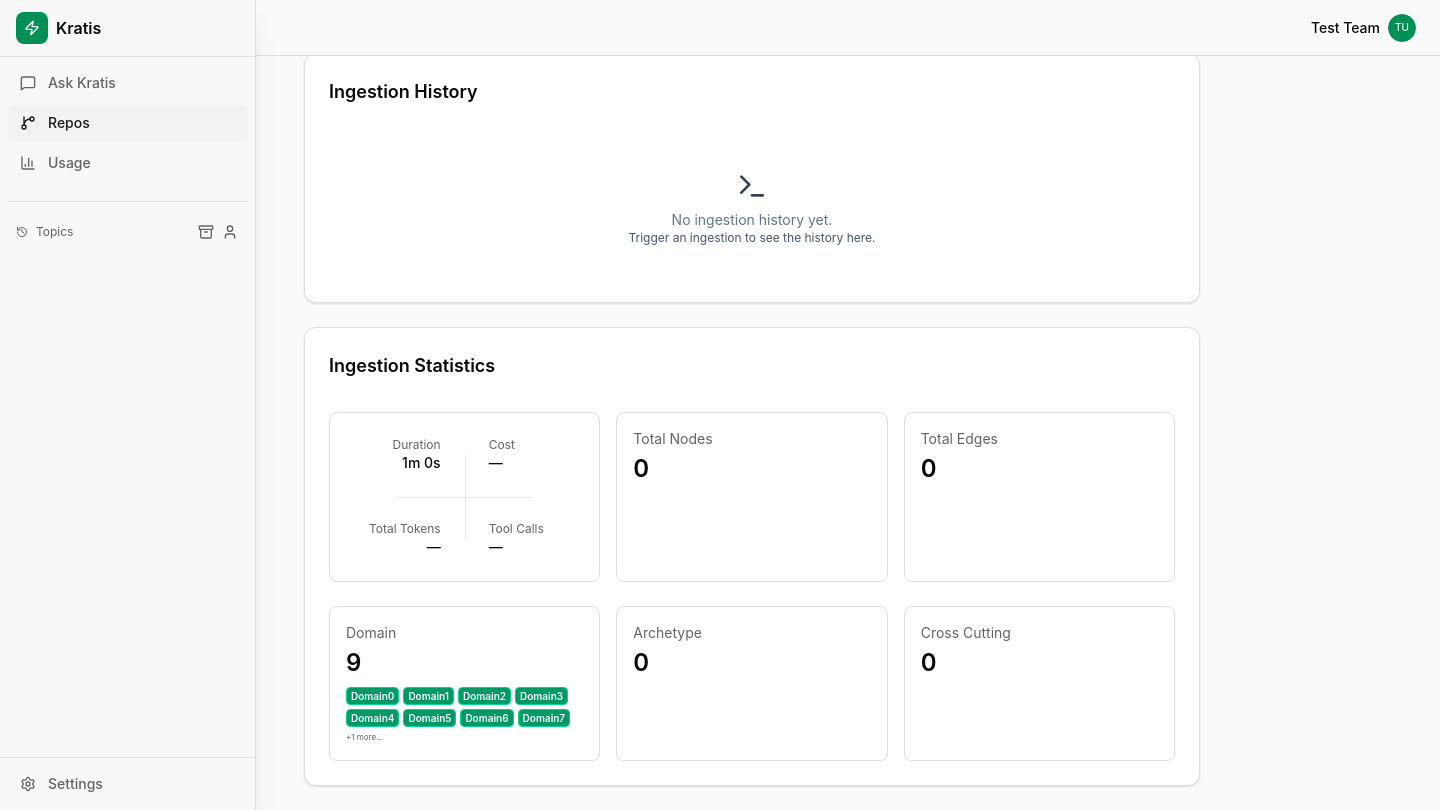
Test: Repository Drilldown - Dimension Categories & Wiki Pages › expands and collapses the dimension tag cloud when more than 8 dimensions exist in a category
(page scrolled)
Expected: the text "Domain0" is shown, [347,688,398,704]
Expected: the text "Domain8" is not shown
Click the button "+1 more…" at (365, 738), box [346,731,383,744]
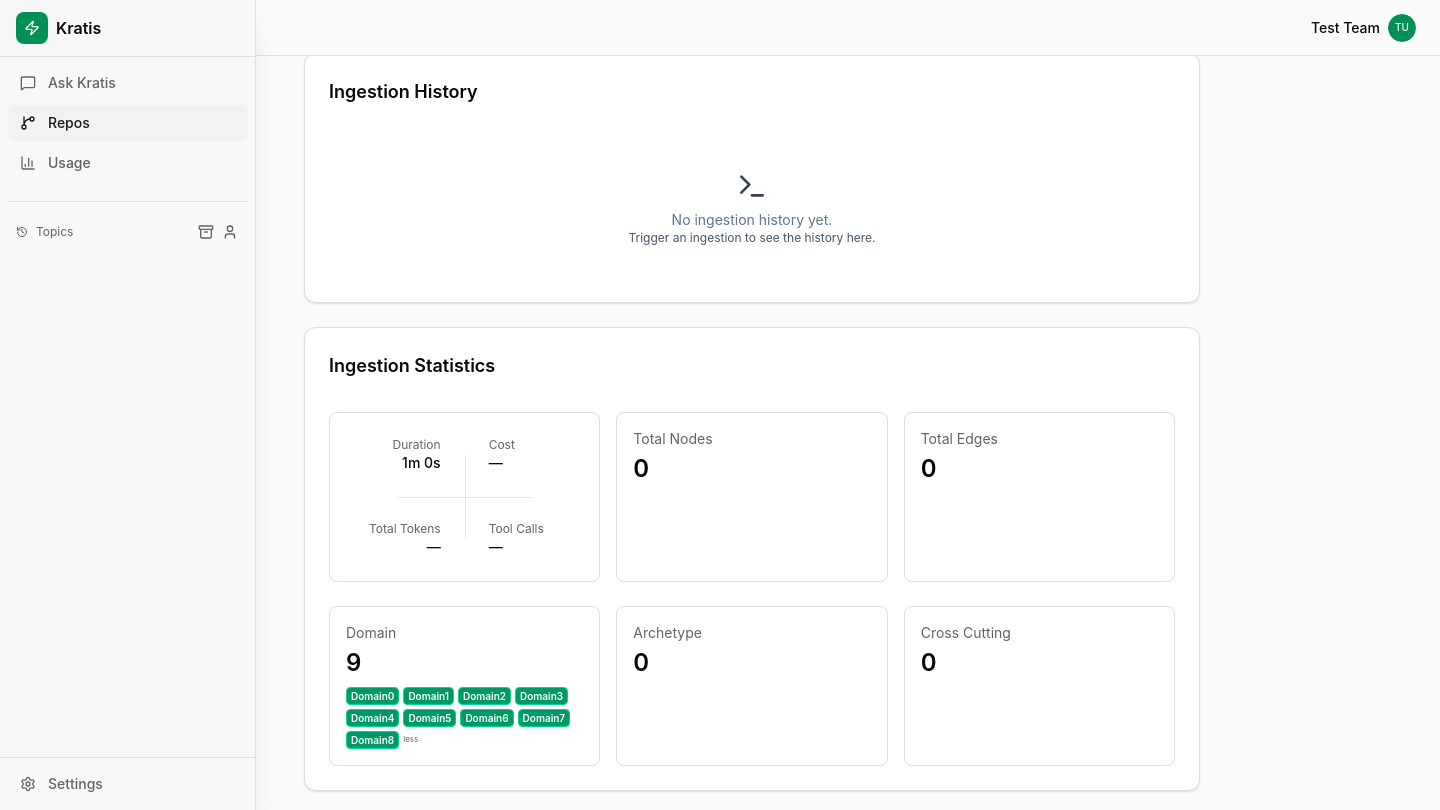
Result: the text "Domain8" is shown at [347,732,398,748]
Click the button "less" at (411, 740), box [403,731,418,749]
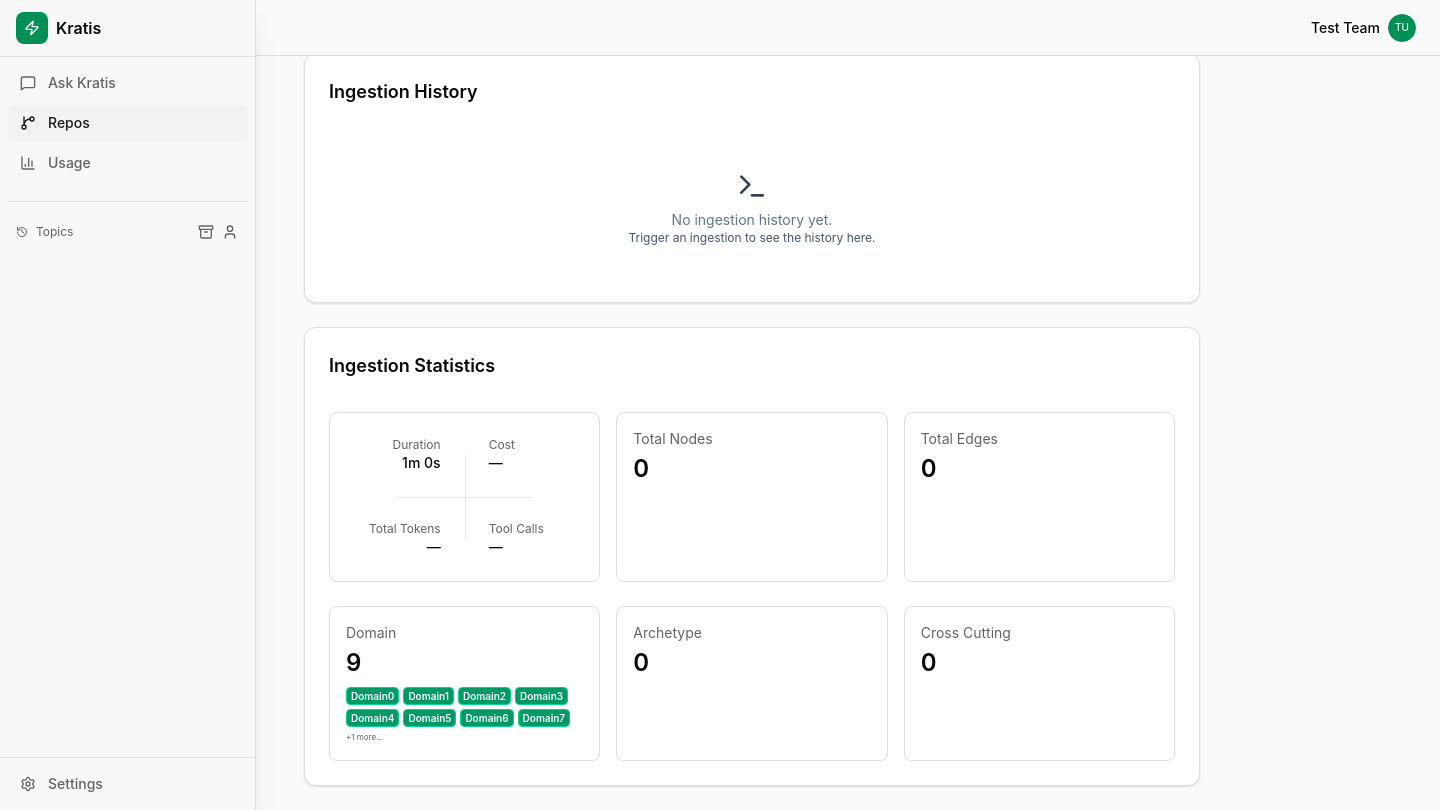
Result: the text "Domain8" is gone
